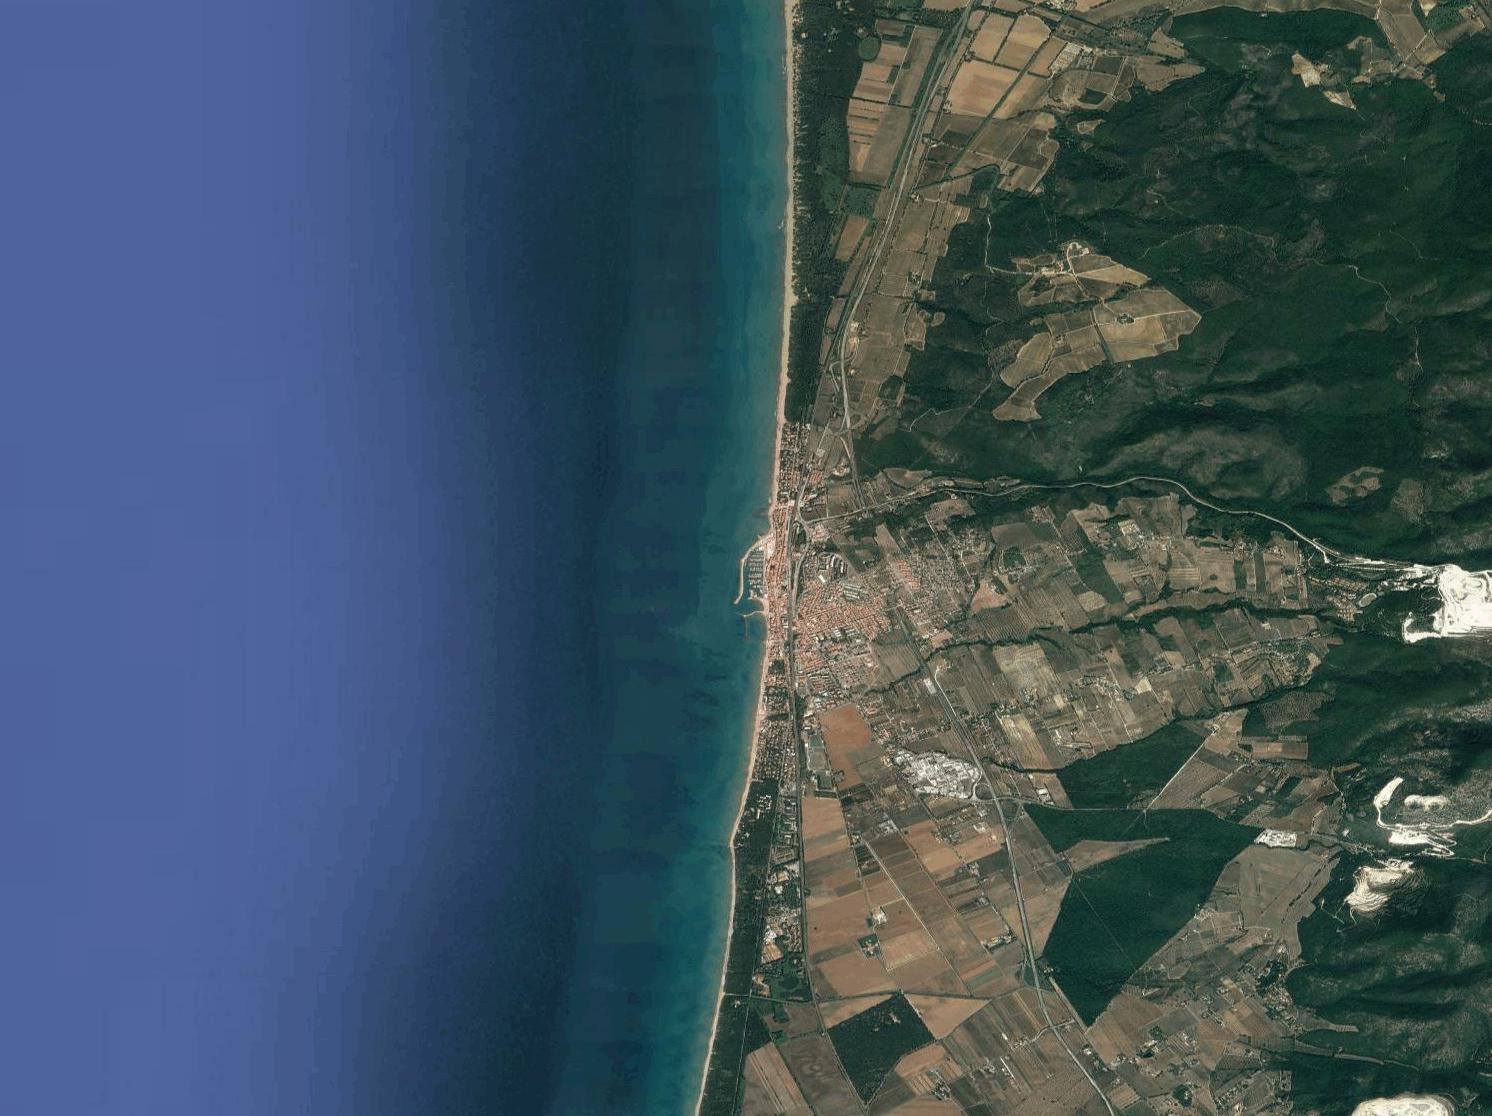harbor: (727, 530, 775, 628)
